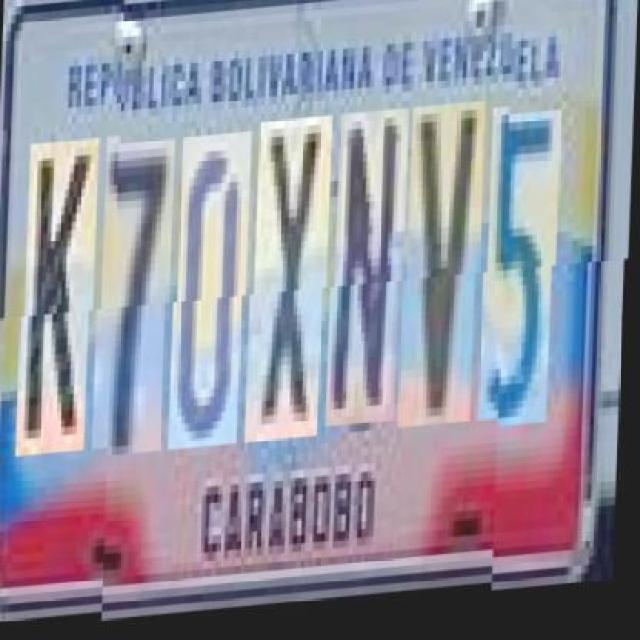0: (176, 137, 253, 454)
5: (485, 113, 564, 430)
7: (98, 143, 177, 460)
k: (22, 148, 101, 464)
n: (332, 116, 411, 433)
v: (404, 111, 488, 435)
x: (252, 122, 334, 447)
